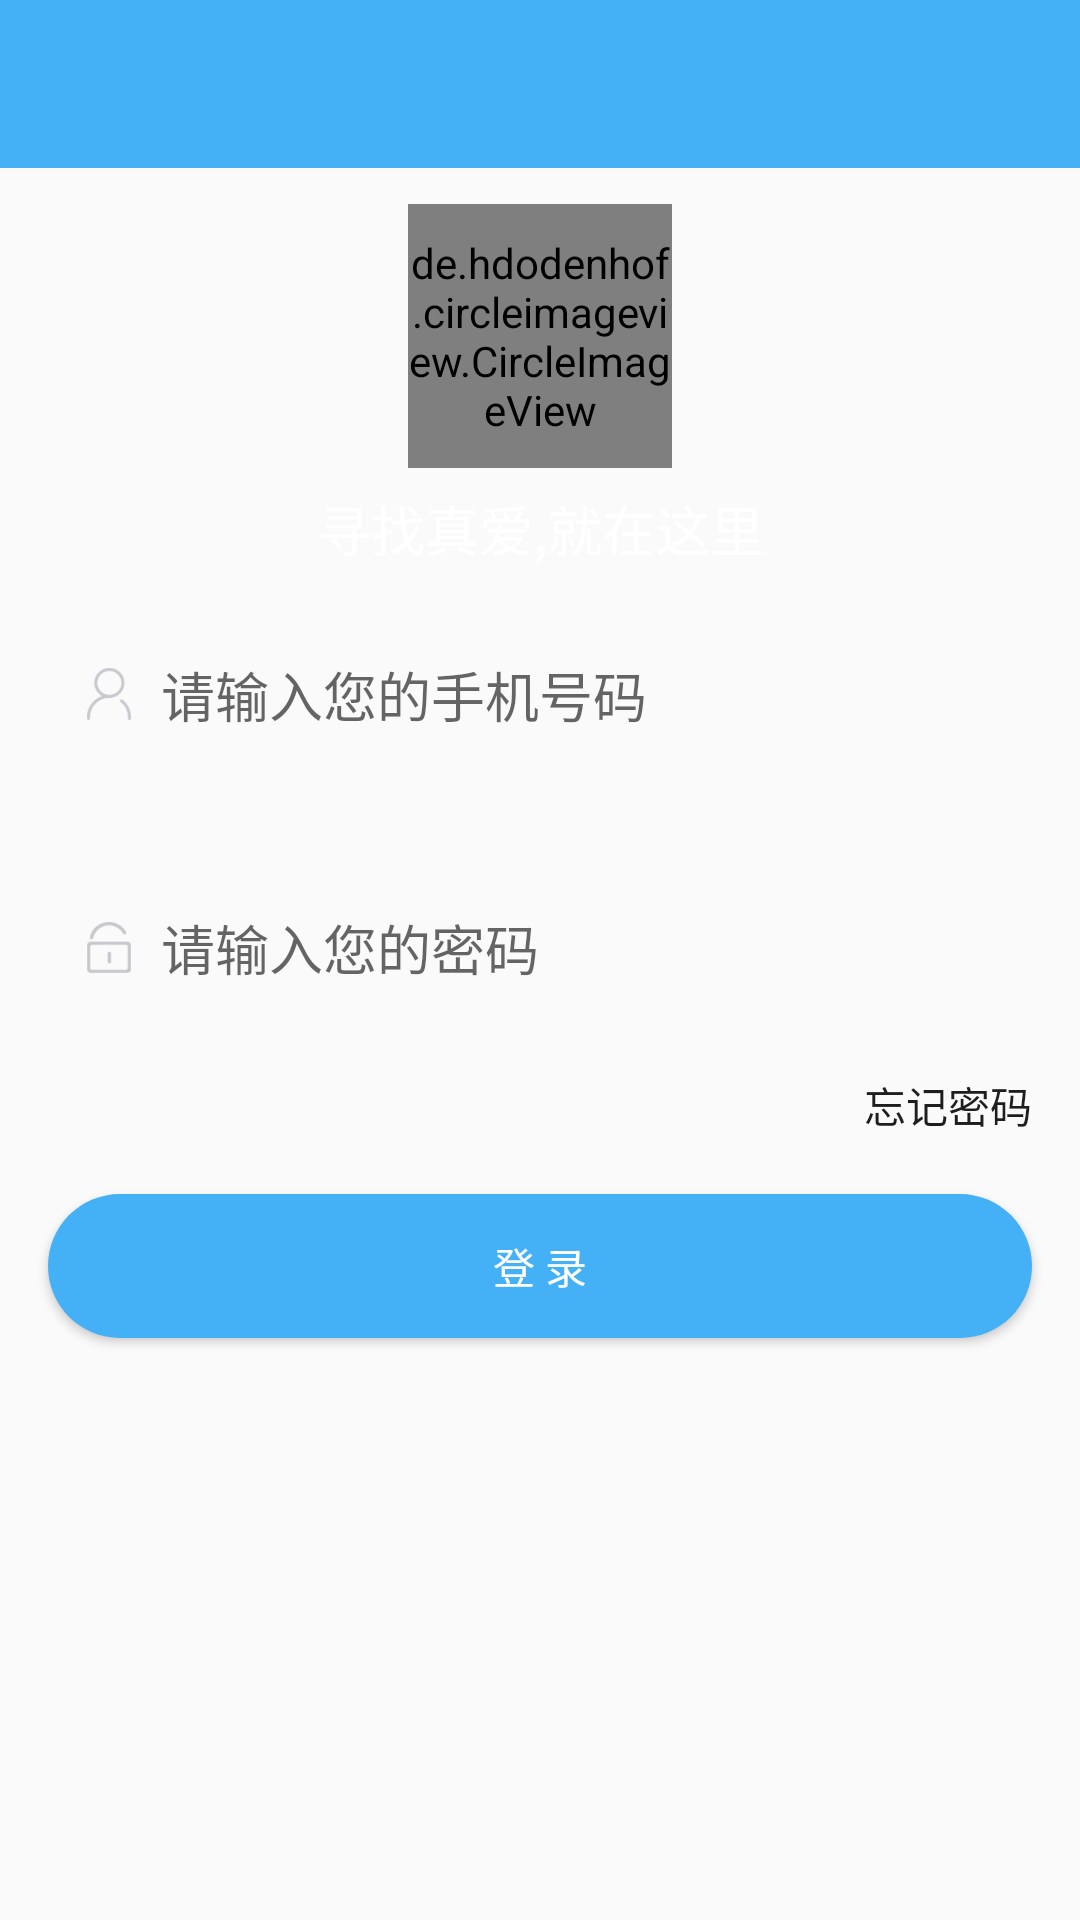

Locate icon controls on the screen. Image size 1080 × 1920, boxes as (x1, y1, x2, y2).
login pwd: (87, 922, 131, 973)
login user: (87, 668, 131, 720)
